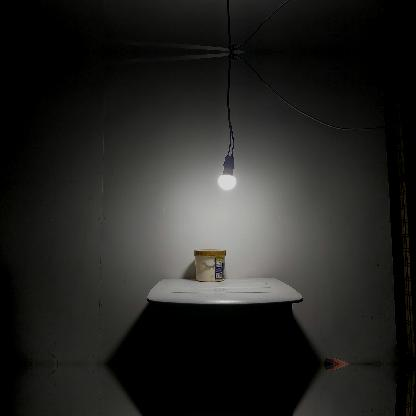Lady-s-Choice: (194, 248, 226, 282)
